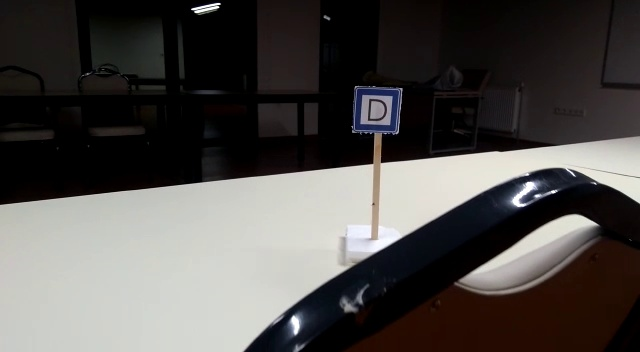durak: (352, 87, 403, 132)
